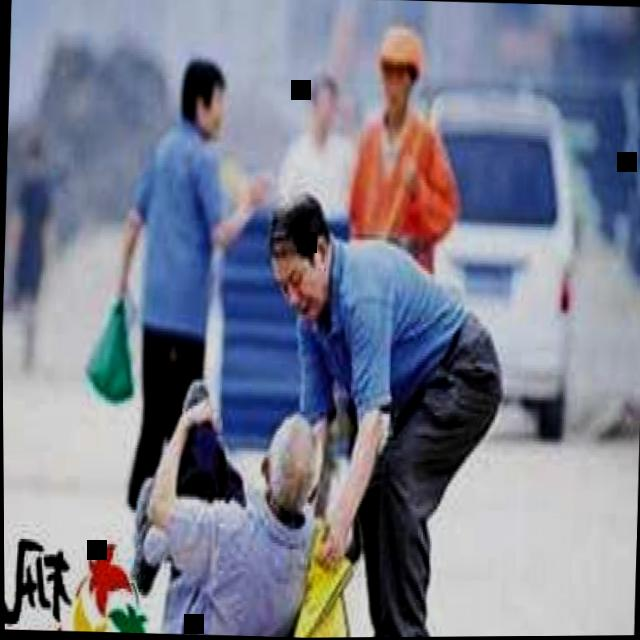Fall-Detected: (98, 361, 355, 639)
